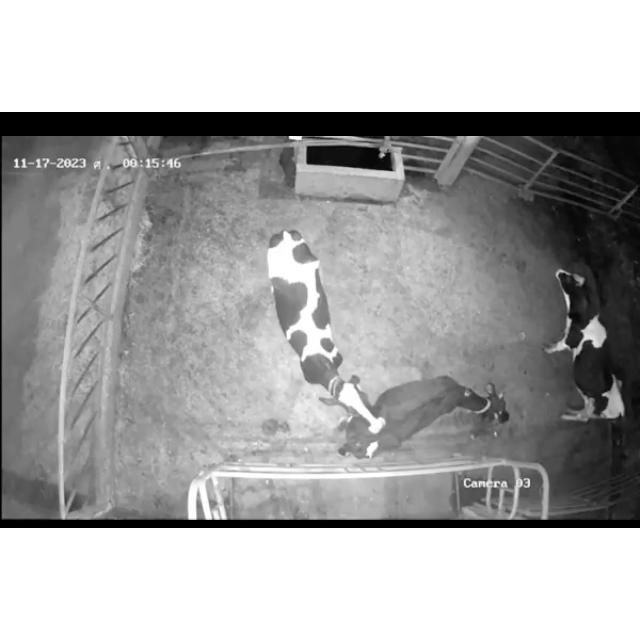propping: (310, 357, 398, 445)
